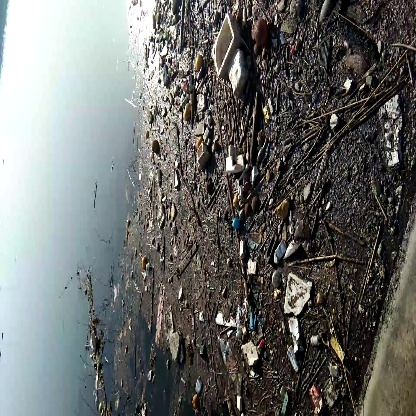plastic-garbage: (207, 13, 257, 96)
